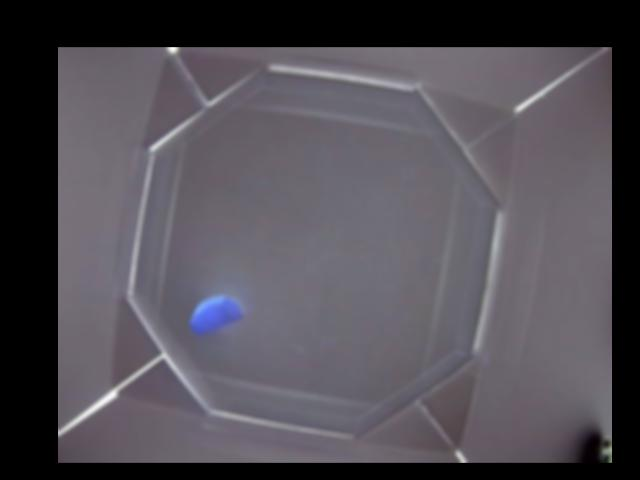Potato: (189, 294, 243, 332)
